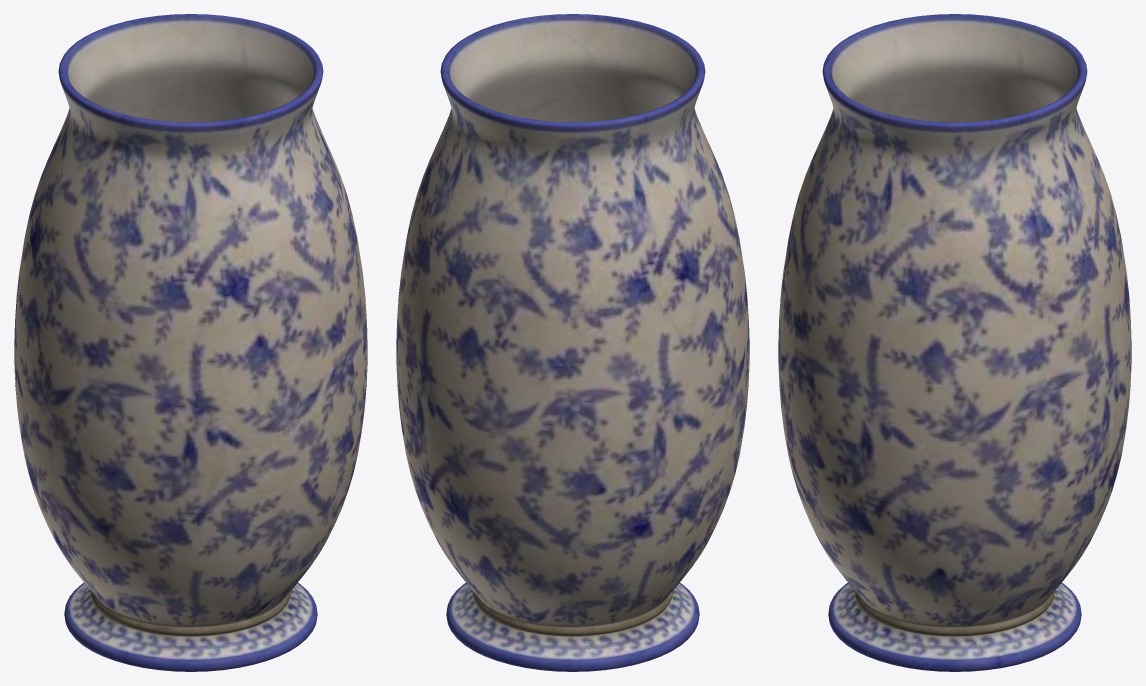
File: antique_ceramic_vase_01.glb
The picture shows the model from 3 angles, left to right: view 1: azimuth 30°, elevation 25°; view 2: azimuth 150°, elevation 25°; view 3: azimuth 270°, elevation 25°; orthographic projection.
Visible parts, largest first — view 1: antique_ceramic_vase_01; view 2: antique_ceramic_vase_01; view 3: antique_ceramic_vase_01.
Boxes of the visible parts, box(x1,y1,x2,y2) form: antique_ceramic_vase_01: box(14, 14, 367, 671); antique_ceramic_vase_01: box(396, 14, 749, 671); antique_ceramic_vase_01: box(778, 14, 1131, 671).
Size of the model in its own units: 0.255 by 0.4396 by 0.255.
Materials: 1 (1 with a texture image).
